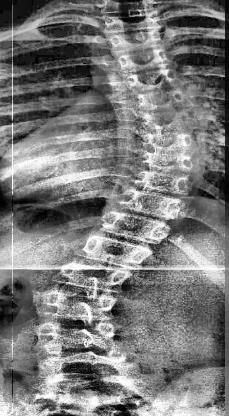Vertebrae: (58, 263, 132, 301), (100, 208, 173, 244), (78, 233, 150, 269), (44, 352, 124, 382), (39, 326, 121, 354), (48, 294, 114, 326), (123, 190, 185, 224), (137, 170, 201, 198), (140, 148, 198, 170), (142, 130, 202, 150), (116, 50, 174, 70), (110, 32, 168, 52), (107, 12, 165, 30), (128, 71, 180, 91), (139, 90, 189, 108), (142, 110, 192, 126)
